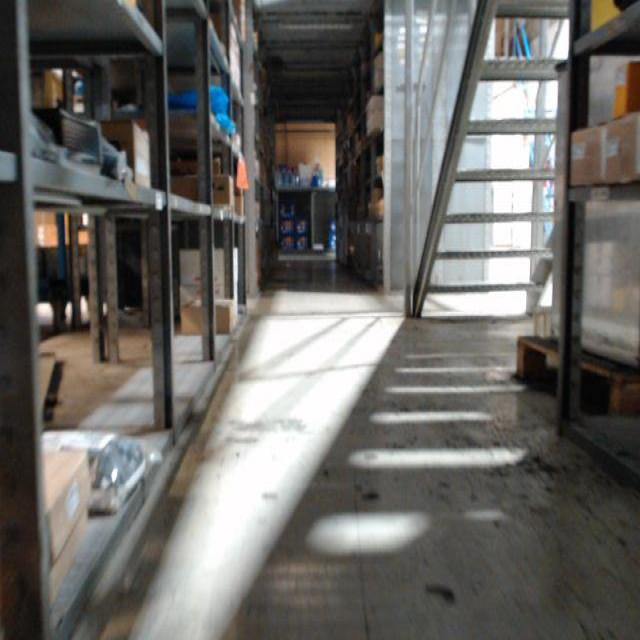pallet: (516, 332, 640, 421)
